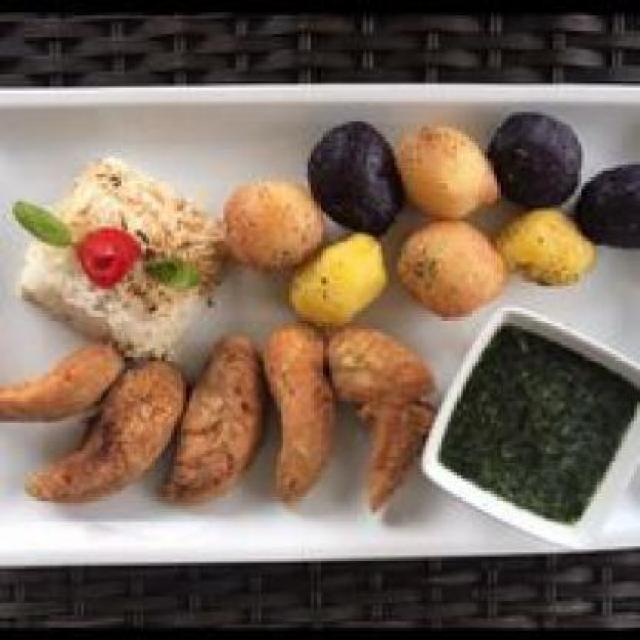fried rice: (5, 156, 230, 344)
molokhia: (428, 310, 632, 538)
